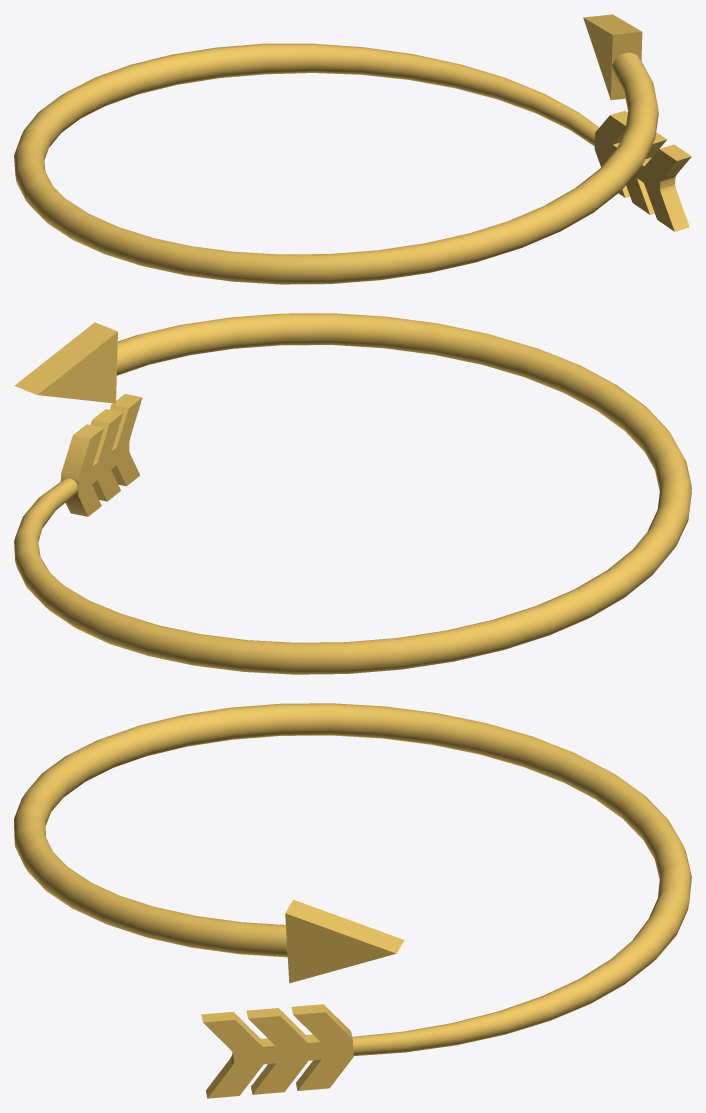
The model's file is 3-gold.fbx.
3 renders of one model, top to bottom at view 1: azimuth 30°, elevation 25°; view 2: azimuth 150°, elevation 25°; view 3: azimuth 270°, elevation 25°, orthographic. The views are drawn at different scales.
Visible parts, largest first — view 1: Helix001, Line002, Line001; view 2: Helix001, Line002, Line001; view 3: Helix001, Line002, Line001.
Boxes of the visible parts, x1,y1,x2,y2 form: Helix001: (14,43,658,284); Line002: (594,110,691,231); Line001: (583,14,642,100); Helix001: (14,313,691,674); Line002: (60,394,142,516); Line001: (14,322,117,403); Helix001: (14,703,691,1055); Line002: (201,1004,353,1098); Line001: (285,899,404,983).
Size of the model in its own units: 21.65 by 6.16 by 20.96.
